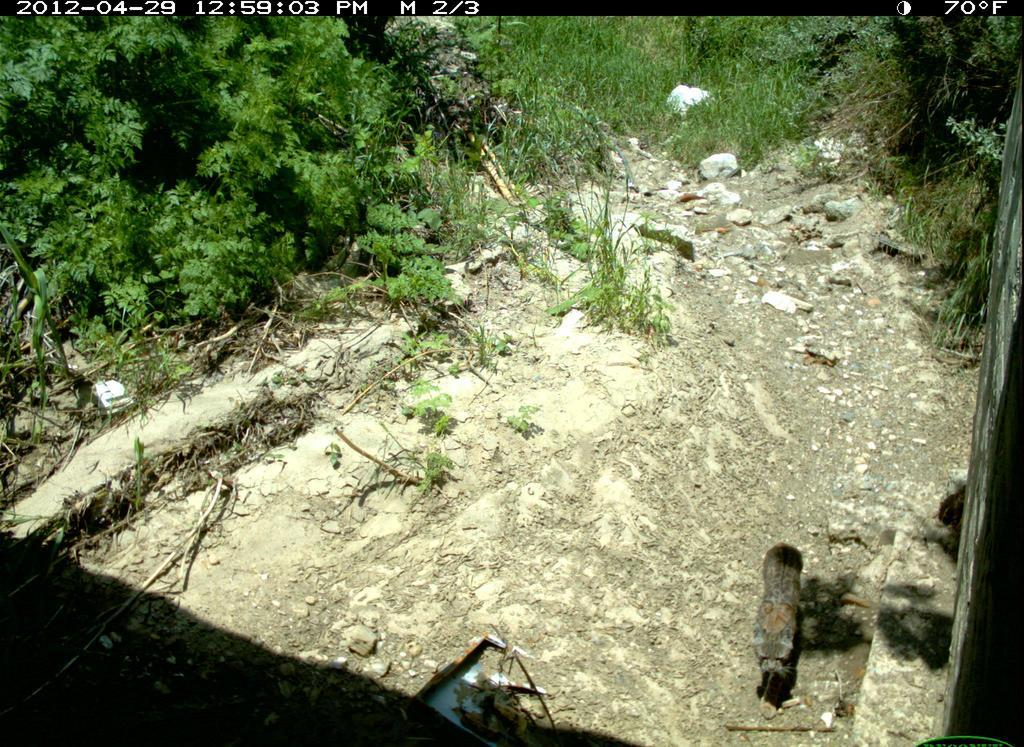bobcat: (738, 532, 821, 708)
